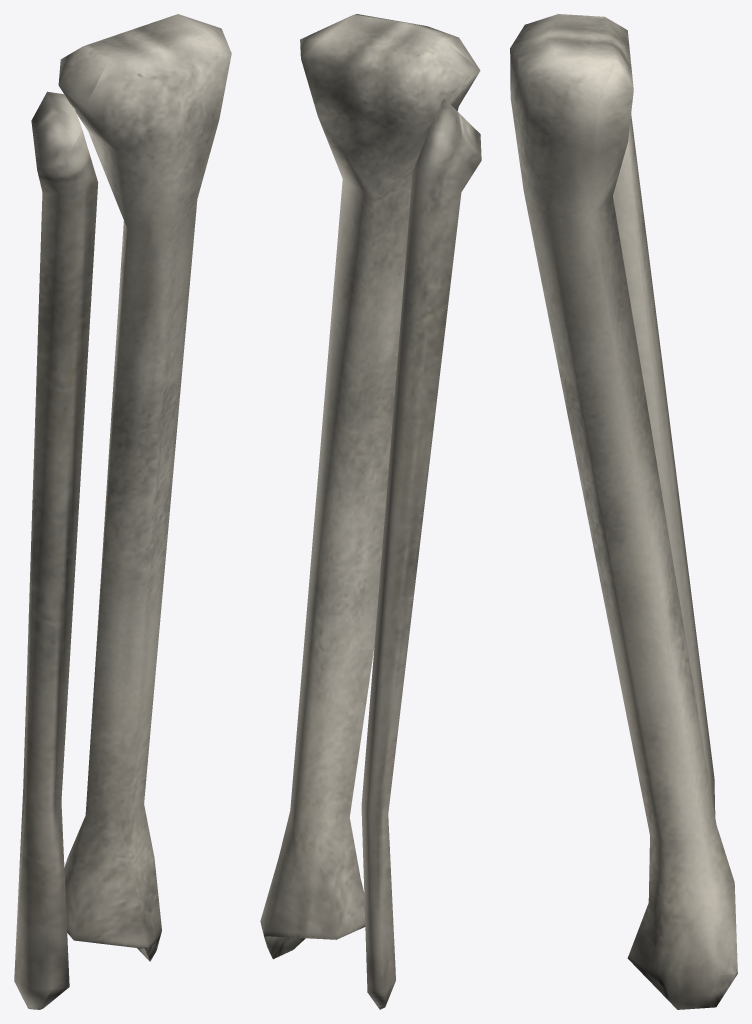
File: piernaDer.obj
3 views of the same model, side by side, from view 1: azimuth 30°, elevation 25°; view 2: azimuth 150°, elevation 25°; view 3: azimuth 270°, elevation 25° (orthographic). The views are drawn at different scales.
Visible parts, largest first — view 1: piernaDer; view 2: piernaDer; view 3: piernaDer.
Boxes of the visible parts, <box> form: piernaDer: <box>14,14,231,1009</box>; piernaDer: <box>260,14,481,1009</box>; piernaDer: <box>510,14,737,1009</box>.
Size of the model in its own units: 0.0965 by 0.4849 by 0.1022.
